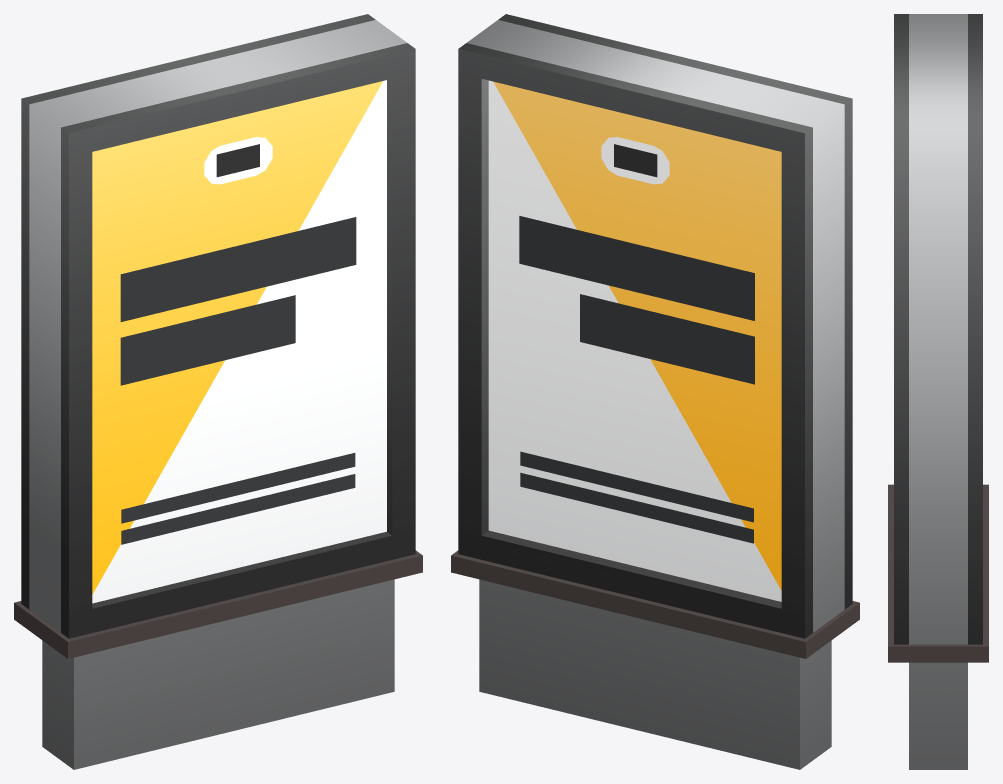
Rendered from city2-billboard-02.glb.
3 views of the same model, side by side, from view 1: azimuth 30°, elevation 25°; view 2: azimuth 150°, elevation 25°; view 3: azimuth 270°, elevation 25° (orthographic). The views are drawn at different scales.
Parts seen in each view (by area): view 1: Billboard_02; view 2: Billboard_02; view 3: Billboard_02.
Boxes of the visible parts, x1,y1,x2,y2 form: Billboard_02: [14, 14, 422, 769]; Billboard_02: [451, 14, 859, 769]; Billboard_02: [888, 14, 988, 769].
Bounding box in the file's own units: 1.19 × 2.06 × 0.3123.
1 material, 1 textured.
